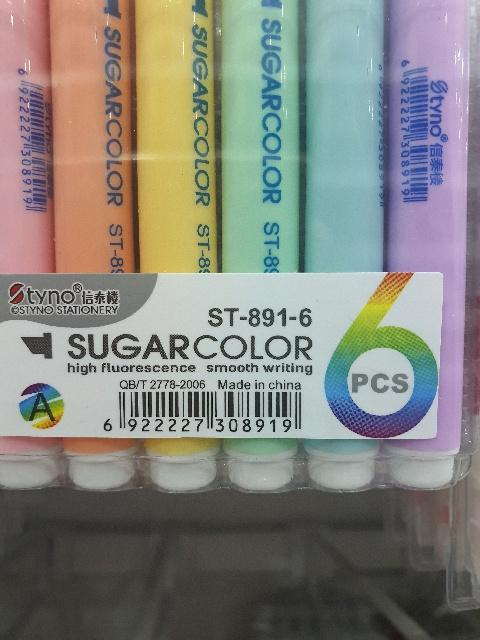Barcode: (94, 387, 310, 434)
